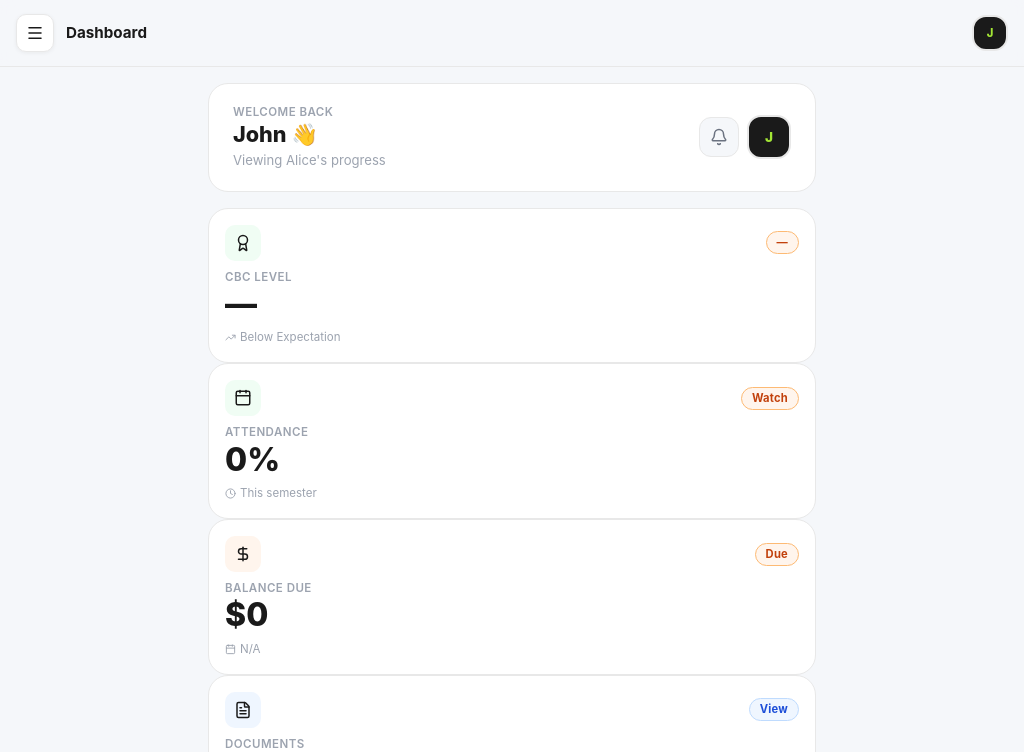
Scenario: ParentDashboard Component › opens profile photo modal when avatar is clicked
This screenshot has width=1024, height=752.
Expected: the heading "John 👋" is shown, [233,121,318,147]
# Finding avatars (top bar and greeting card)
Click the button titled "Edit profile photo" in the row of "Dashboard" at point(990, 33), box [972,15,1008,51]
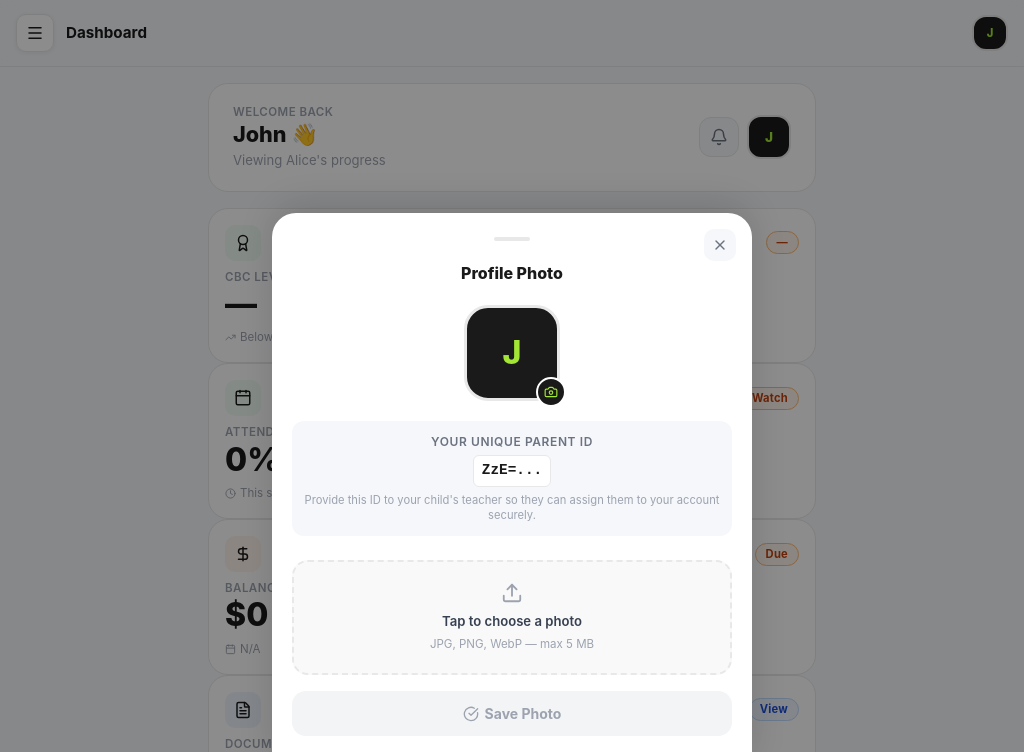
Expected: the text "J" in the row of "Dashboard" is shown, [987,26,993,40]
Now the heading "Profile Photo" is shown, box [461,263,563,283]
